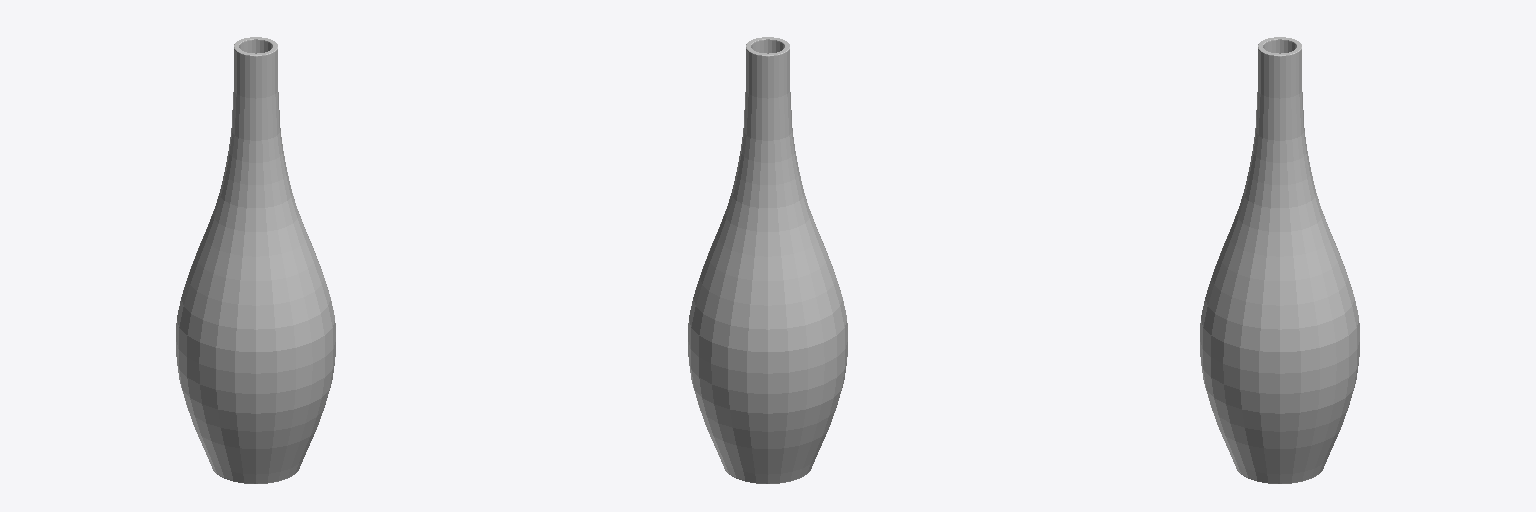
File: Vase01.obj
3 views of the same model, side by side, from view 1: azimuth 30°, elevation 25°; view 2: azimuth 150°, elevation 25°; view 3: azimuth 270°, elevation 25° (orthographic).
Parts seen in each view (by area): view 1: Vase01; view 2: Vase01; view 3: Vase01.
Boxes of the visible parts, x1=… form: Vase01: x1=176, y1=37, x2=335, y2=483; Vase01: x1=688, y1=37, x2=847, y2=483; Vase01: x1=1200, y1=37, x2=1359, y2=483.
Bounding box in the file's own units: 10.4 × 30 × 10.4.